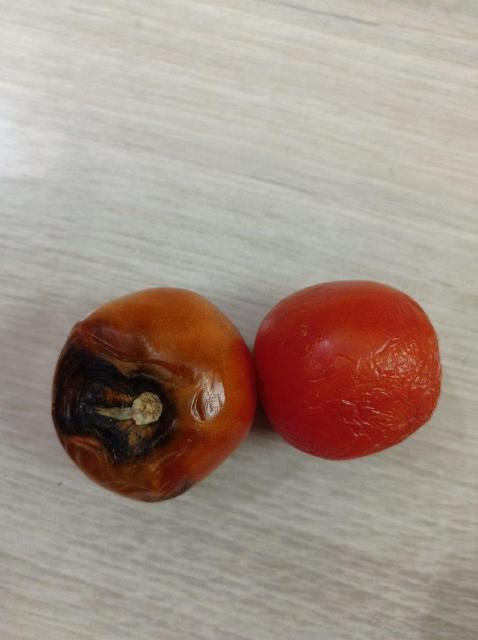defect: (48, 284, 261, 503)
